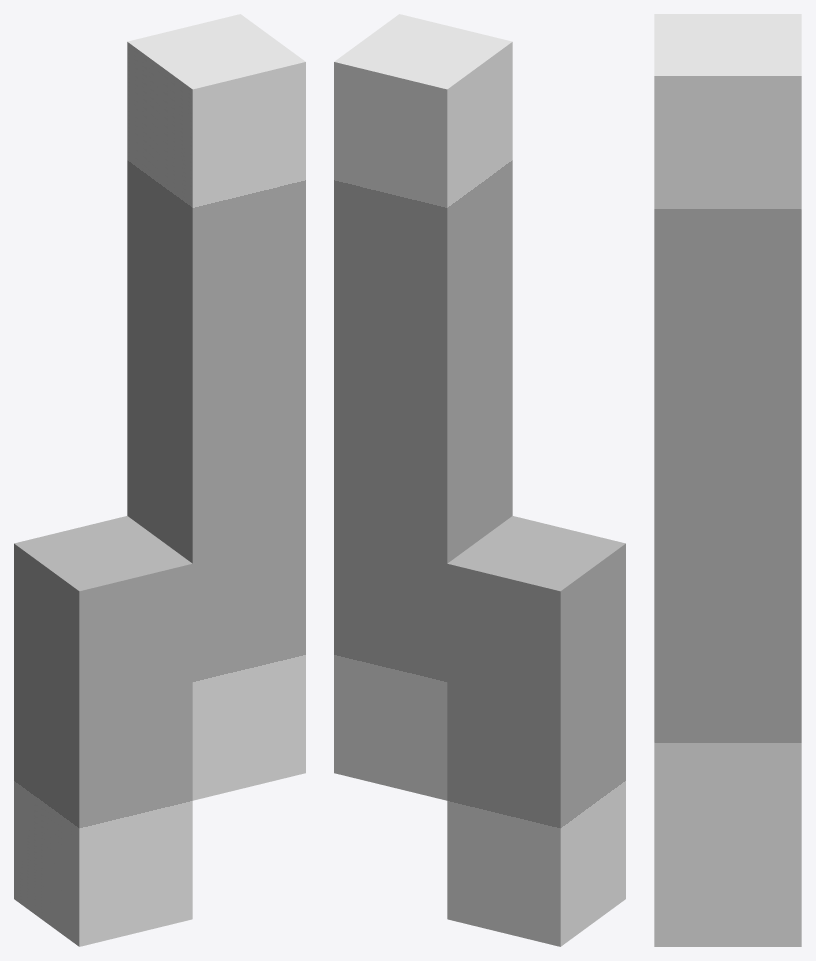
File: SkelArm.dae
3 views of the same model, side by side, from view 1: azimuth 30°, elevation 25°; view 2: azimuth 150°, elevation 25°; view 3: azimuth 270°, elevation 25° (orthographic). The views are drawn at different scales.
Visible parts, largest first — view 1: SkelArm; view 2: SkelArm; view 3: SkelArm.
Part boxes in pixels (left/top/right/bottom): SkelArm: left=14, top=14, right=305, bottom=946; SkelArm: left=334, top=14, right=625, bottom=946; SkelArm: left=654, top=14, right=801, bottom=946.
Bounding box in the file's own units: 0.2 × 0.1 × 0.7.
Materials: 1 (1 with a texture image).
